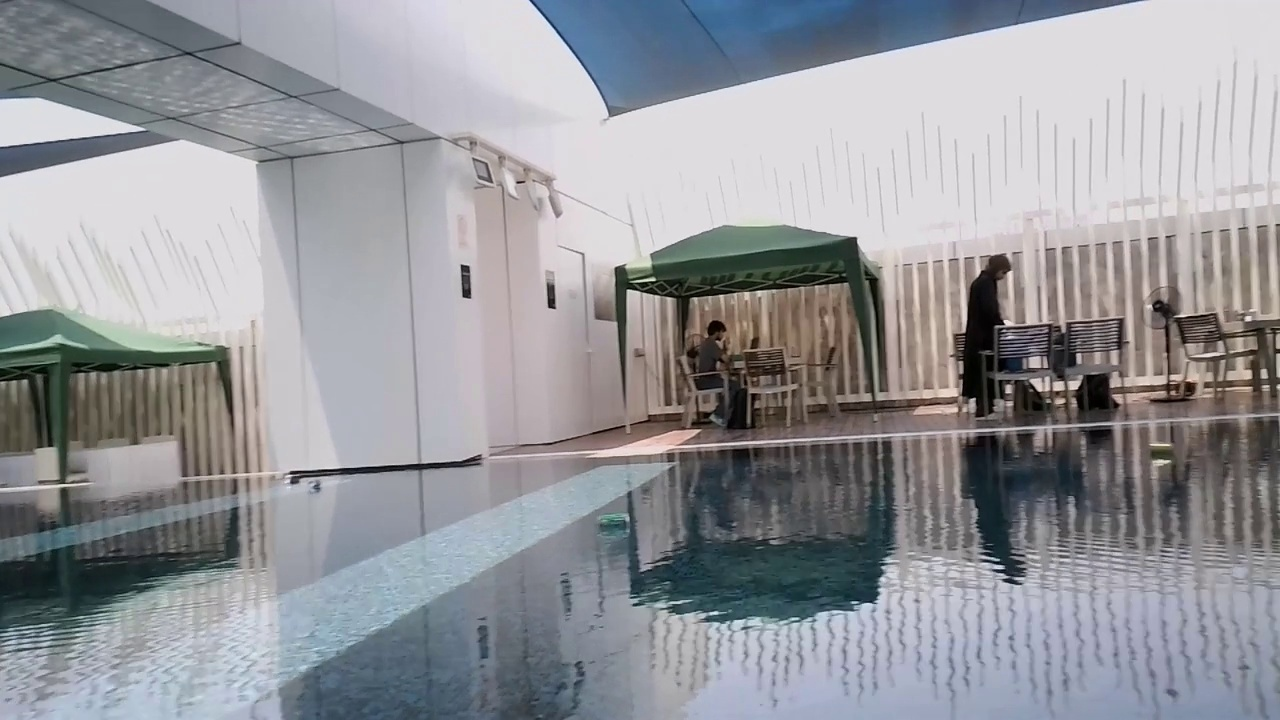debris: (591, 511, 635, 537), (1146, 438, 1178, 463), (280, 471, 302, 487), (303, 479, 323, 493)
